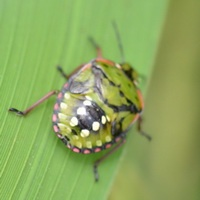insect: (9, 37, 150, 180)
